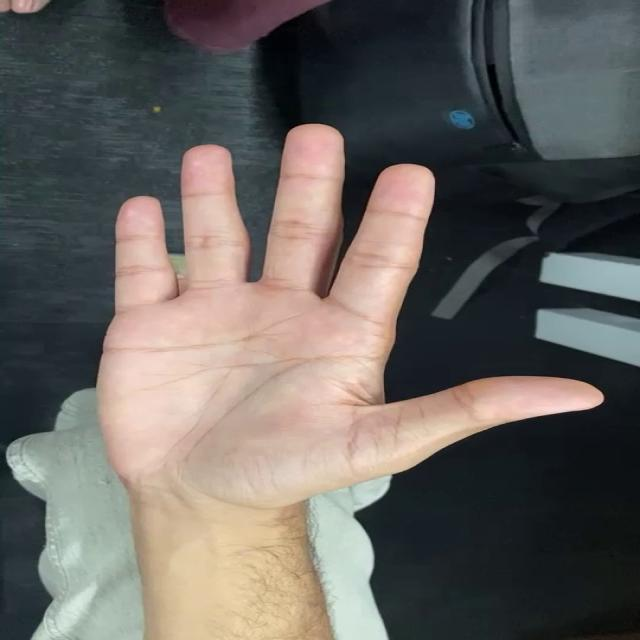no-gloves: (31, 94, 626, 585)
